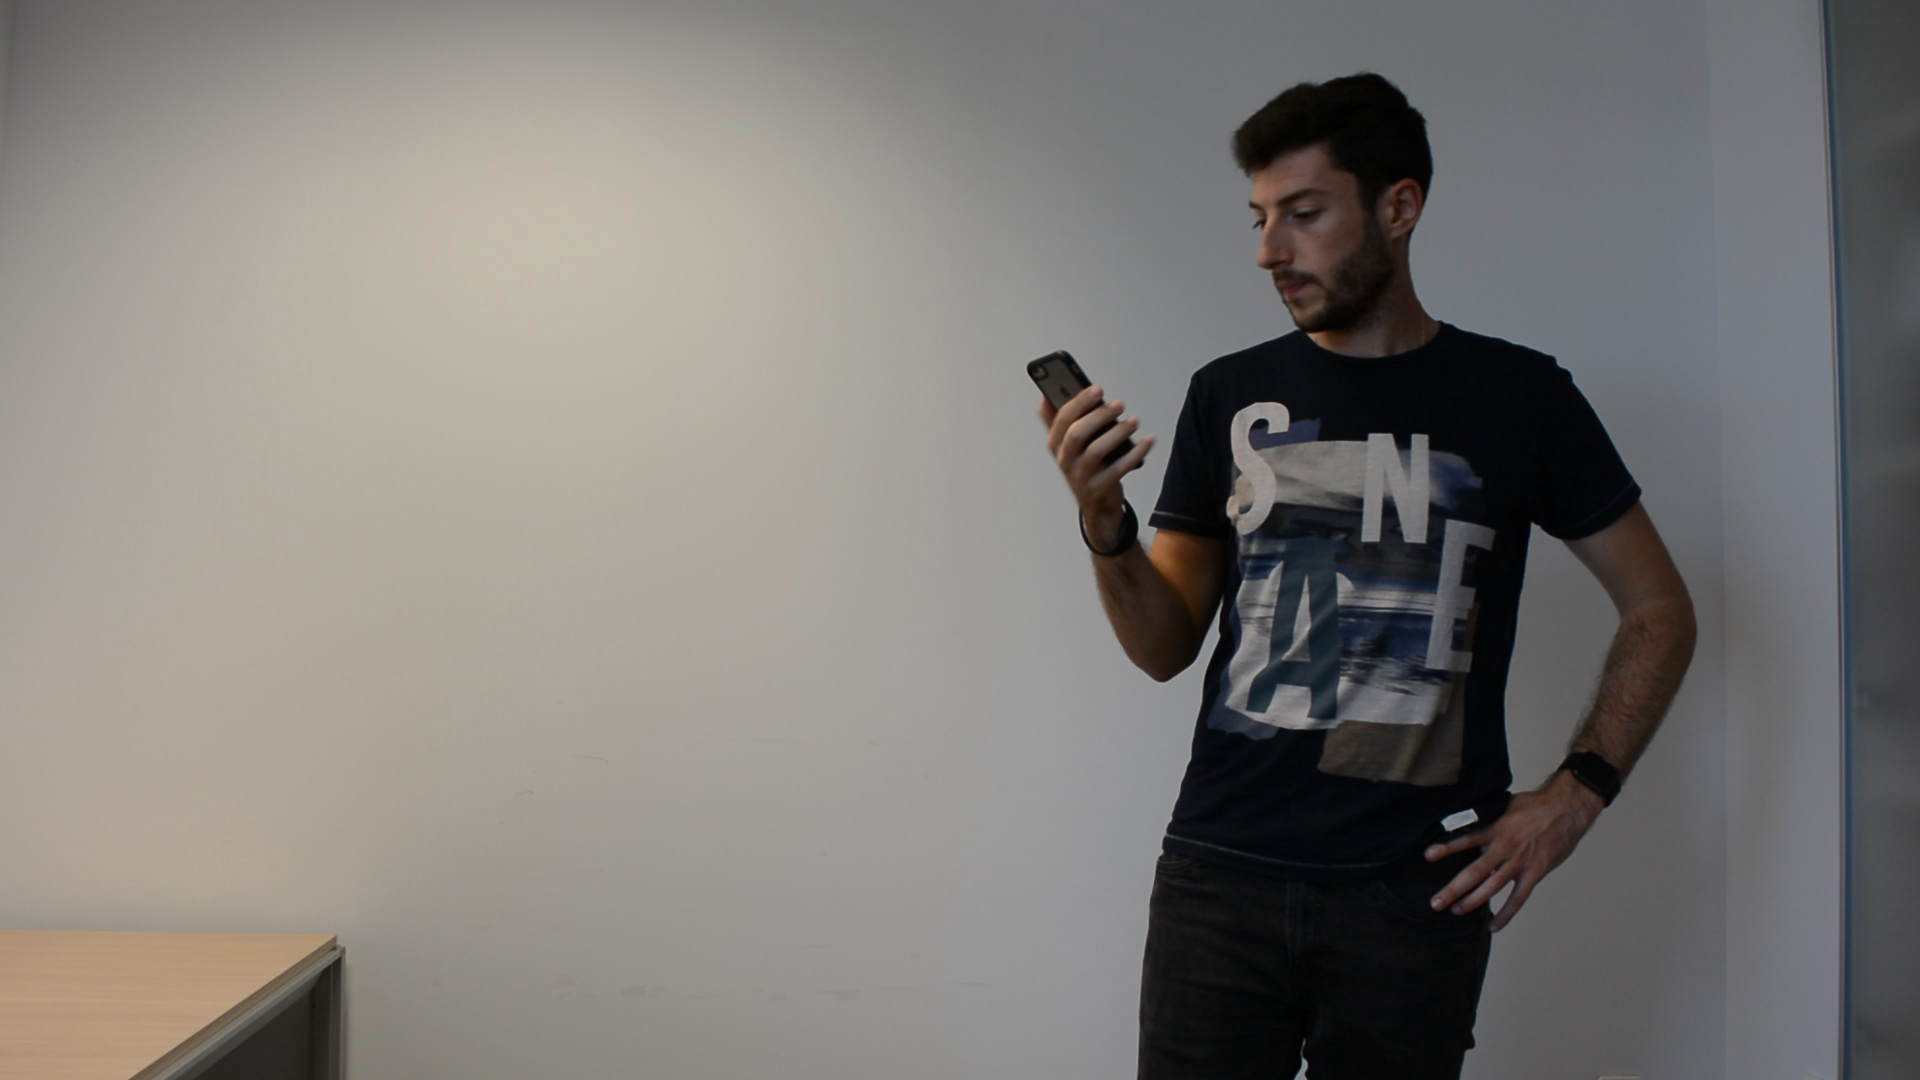smartphone: (1025, 349, 1146, 477)
